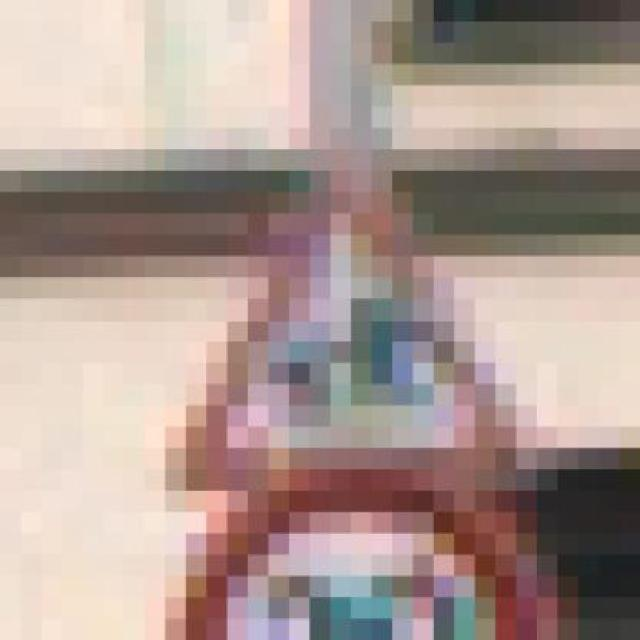Beware of children: (123, 171, 537, 491)
